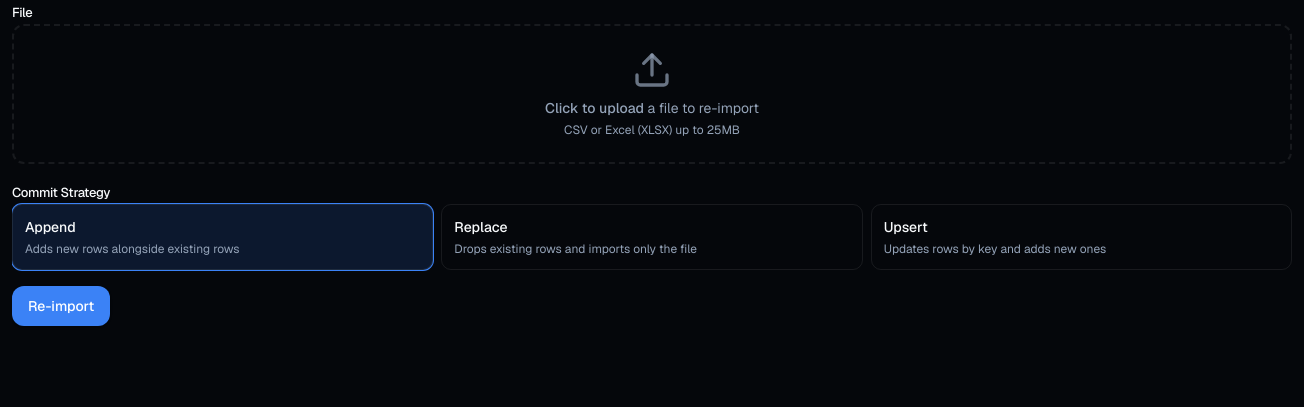
ReimportForm › requires a file before submitting
Click the button "Re-import" at (61, 306), box [12,286,110,326]
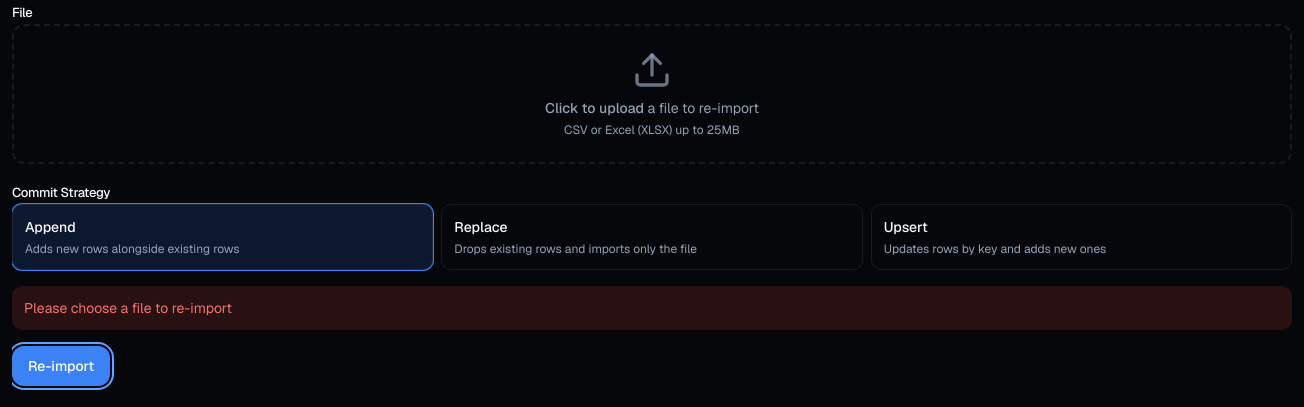
Check: the text "Please choose a file to re-import" is shown, box [24,299,232,317]
